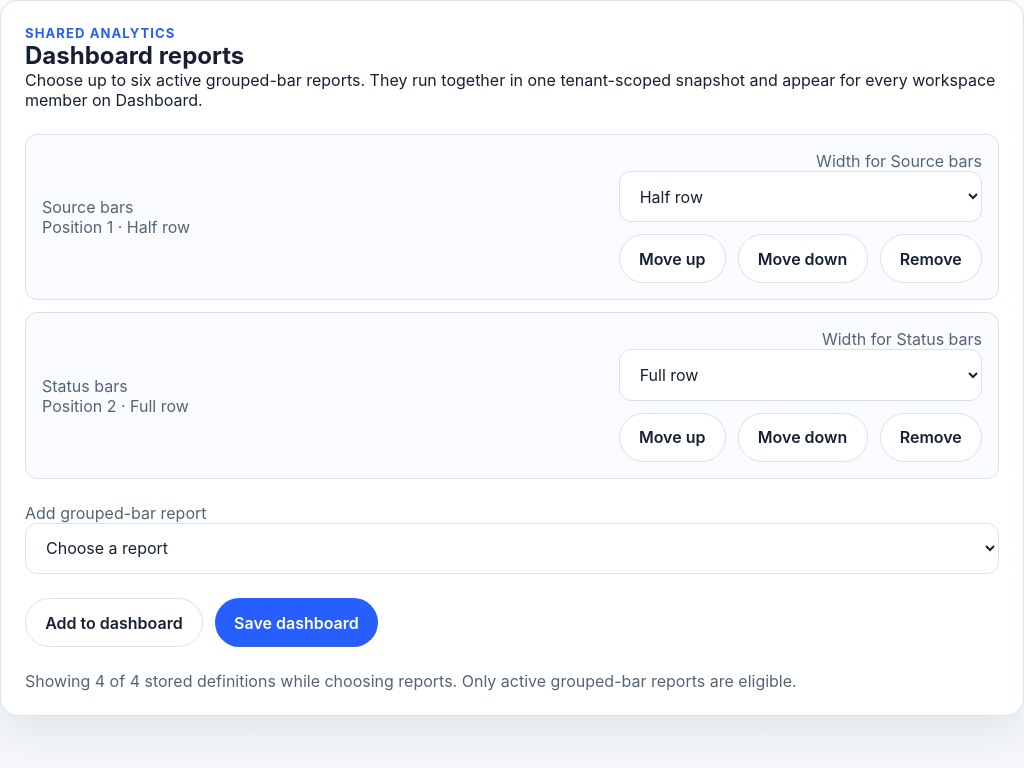
Test: shared report dashboard settings › adds, removes, reorders, resizes, and saves an exact revision
Click the button "Move down" in the row of "Half row": point(803, 259) left=738, top=234, right=868, bottom=283
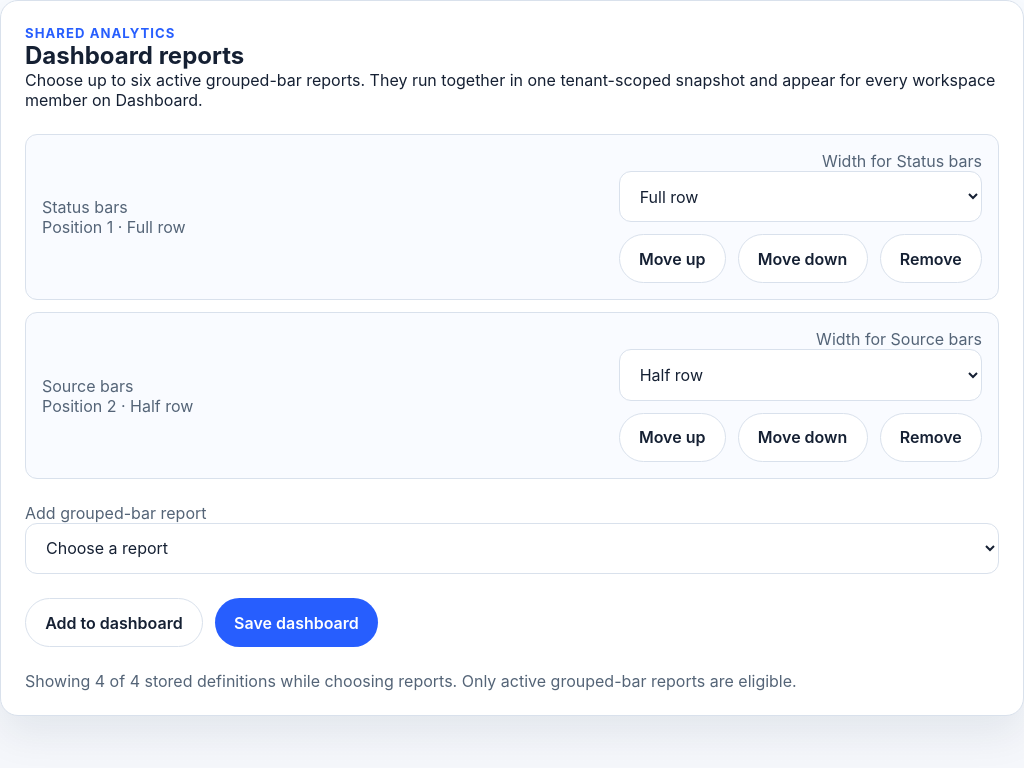
Select "Full row" in the dropdown labelled "Width for Source bars": point(800, 375) left=619, top=349, right=982, bottom=401
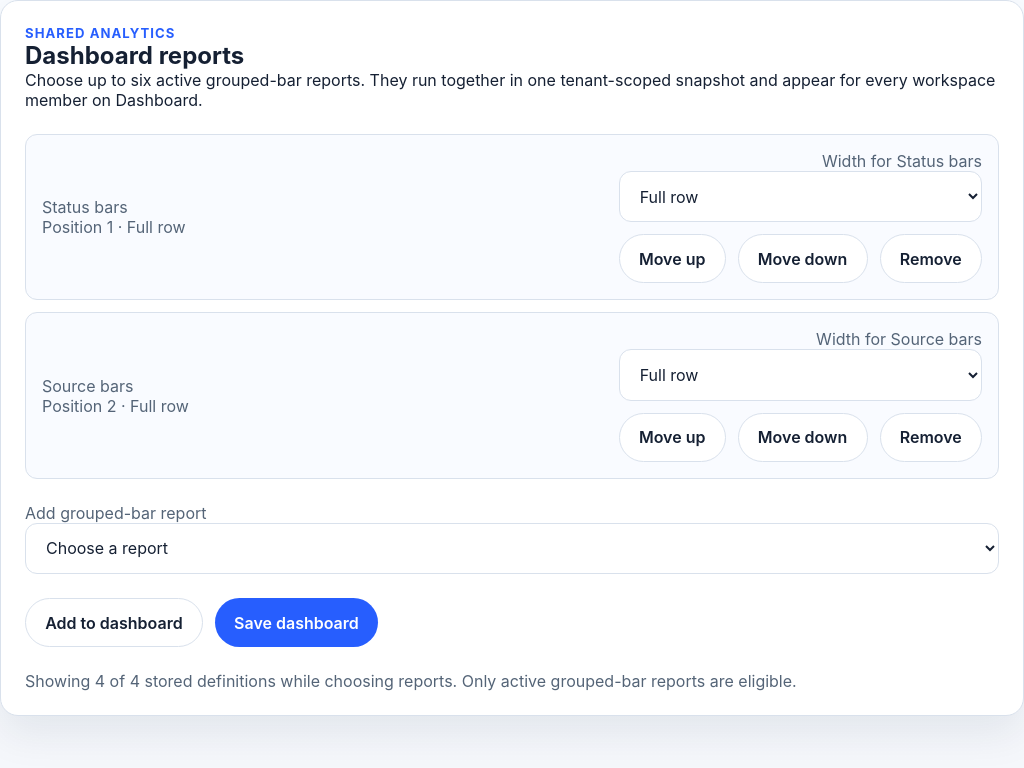
Click the 1st button "Remove": point(931, 259) left=880, top=234, right=982, bottom=283
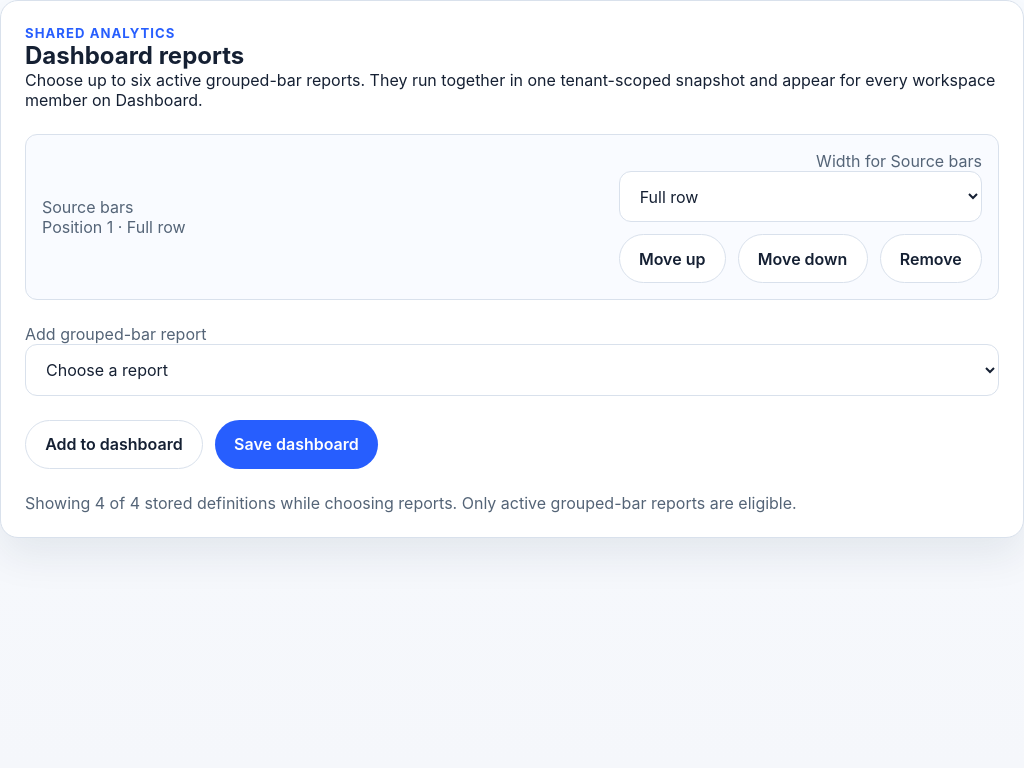
Select "Owner bars" in the dropdown labelled "Add grouped-bar report": point(512, 370) left=25, top=344, right=999, bottom=396
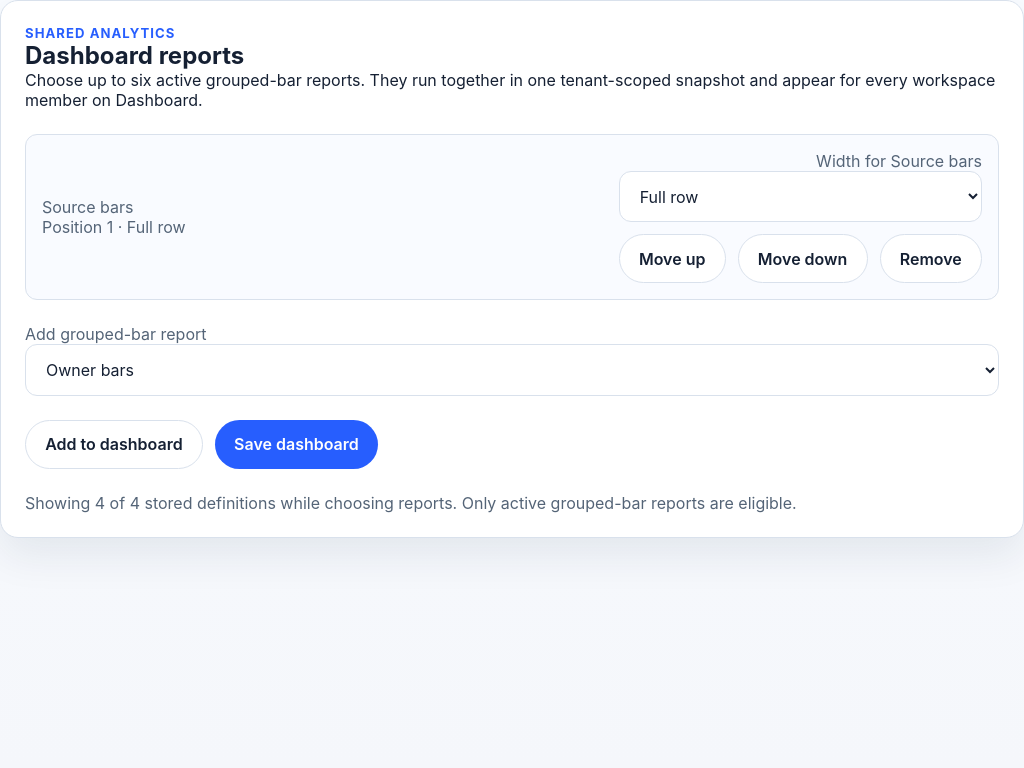
Click the button "Add to dashboard": point(114, 444) left=25, top=420, right=203, bottom=469
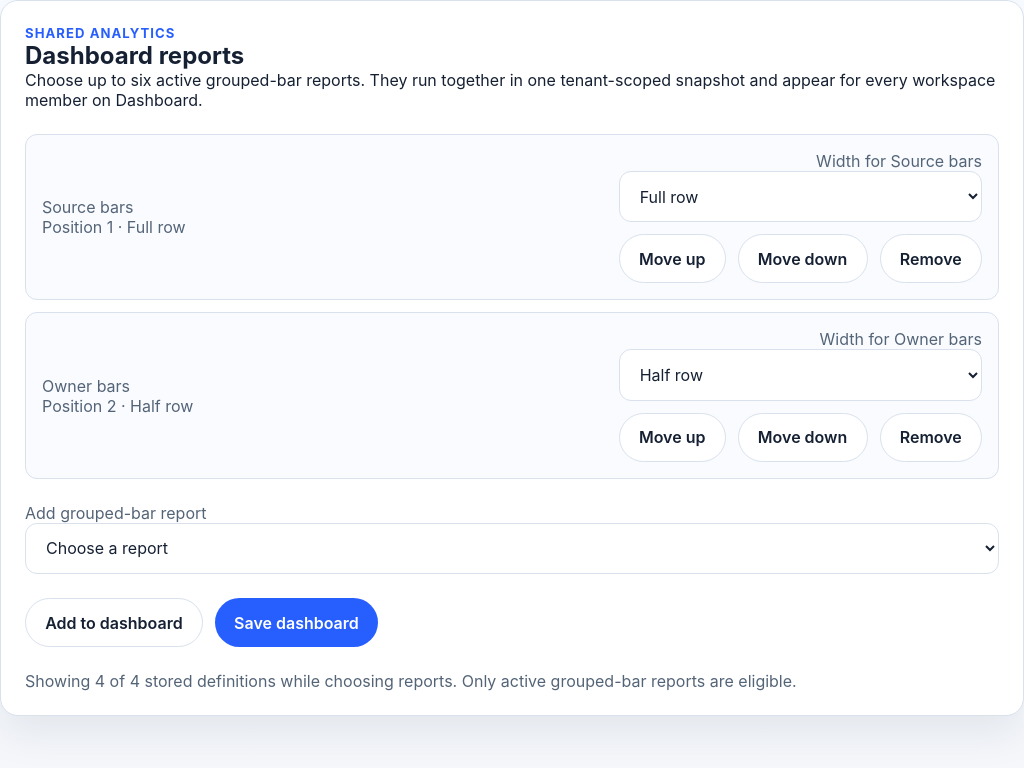
Click the button "Save dashboard": point(296, 622) left=215, top=598, right=378, bottom=647
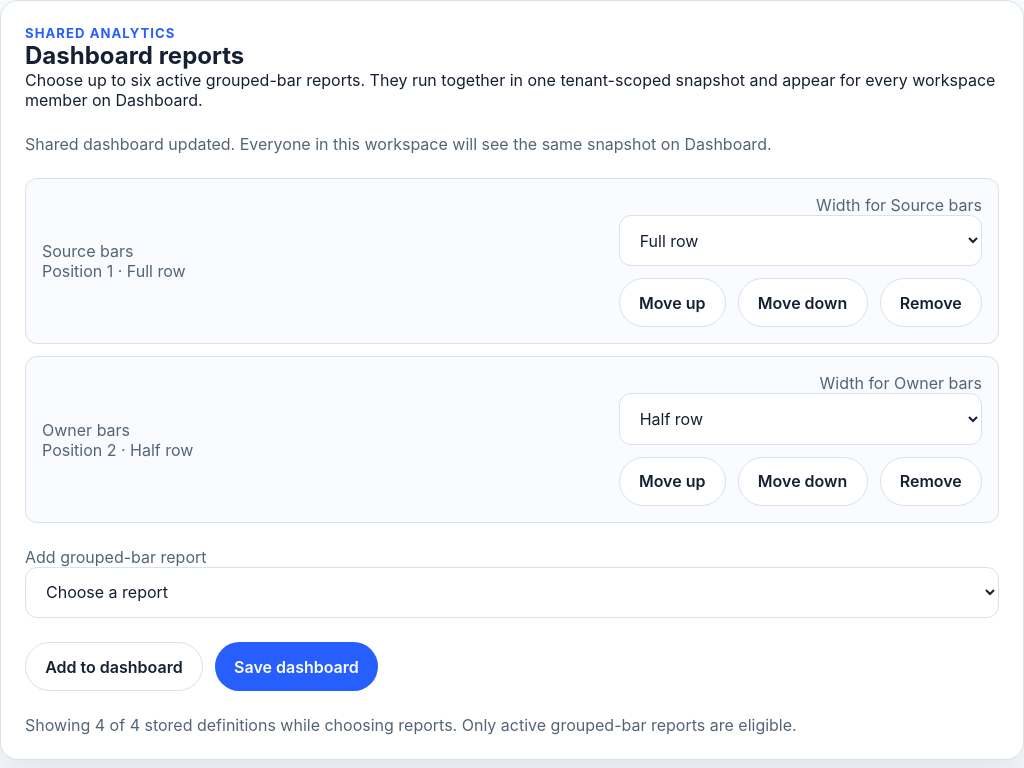
expect the button "Save dashboard" is disabled: met, box left=215, top=642, right=378, bottom=691
